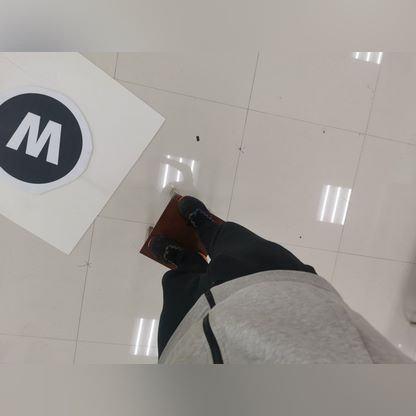W: (5, 99, 79, 180)
